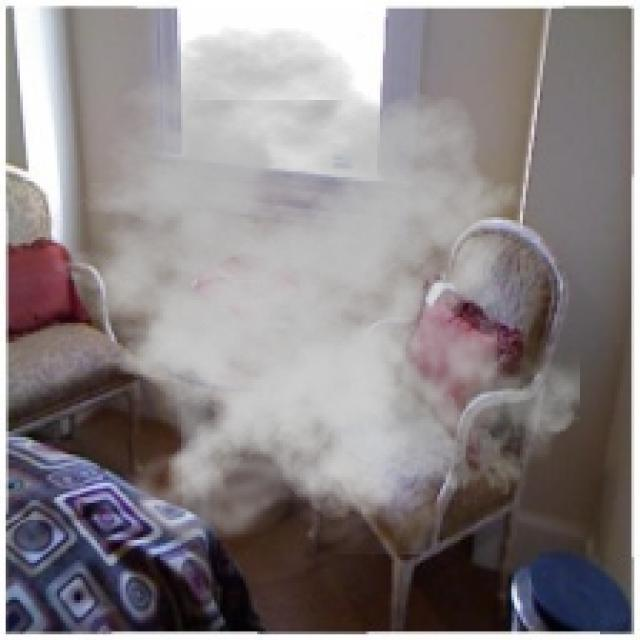Smoke: (31, 26, 580, 554)
